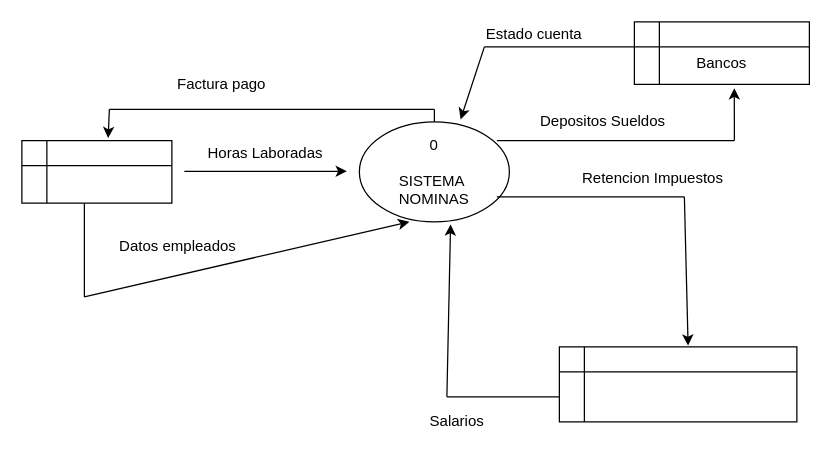
Image size: 831x456. Some labels were removed from this diagram. The shapes that lost their labels are listed below. From the top down, each one's centre as x and y in pixels, then its label:
At pixel 96 171: "EMPLEADOS".
At pixel 677 384: "Finanzas".
